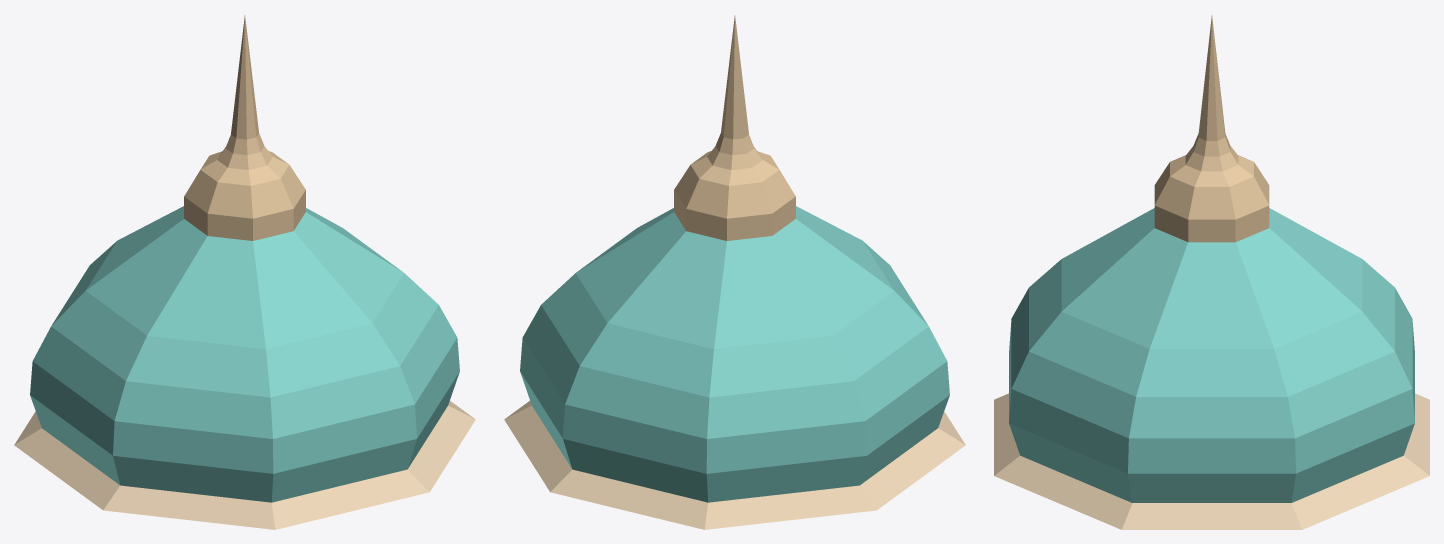
The model's file is Tower_Parapet_Simple_Crowned.glb.
The picture shows the model from 3 angles, left to right: view 1: azimuth 30°, elevation 25°; view 2: azimuth 150°, elevation 25°; view 3: azimuth 270°, elevation 25°; orthographic projection.
Visible parts, largest first — view 1: Tower_Parapet_Simple_Crowned; view 2: Tower_Parapet_Simple_Crowned; view 3: Tower_Parapet_Simple_Crowned.
Part boxes in pixels (<box>): Tower_Parapet_Simple_Crowned: <box>14,15,475,529</box>; Tower_Parapet_Simple_Crowned: <box>504,15,965,529</box>; Tower_Parapet_Simple_Crowned: <box>994,15,1429,529</box>.
Bounding box in the file's own units: 3.75 × 4.1 × 3.75.
